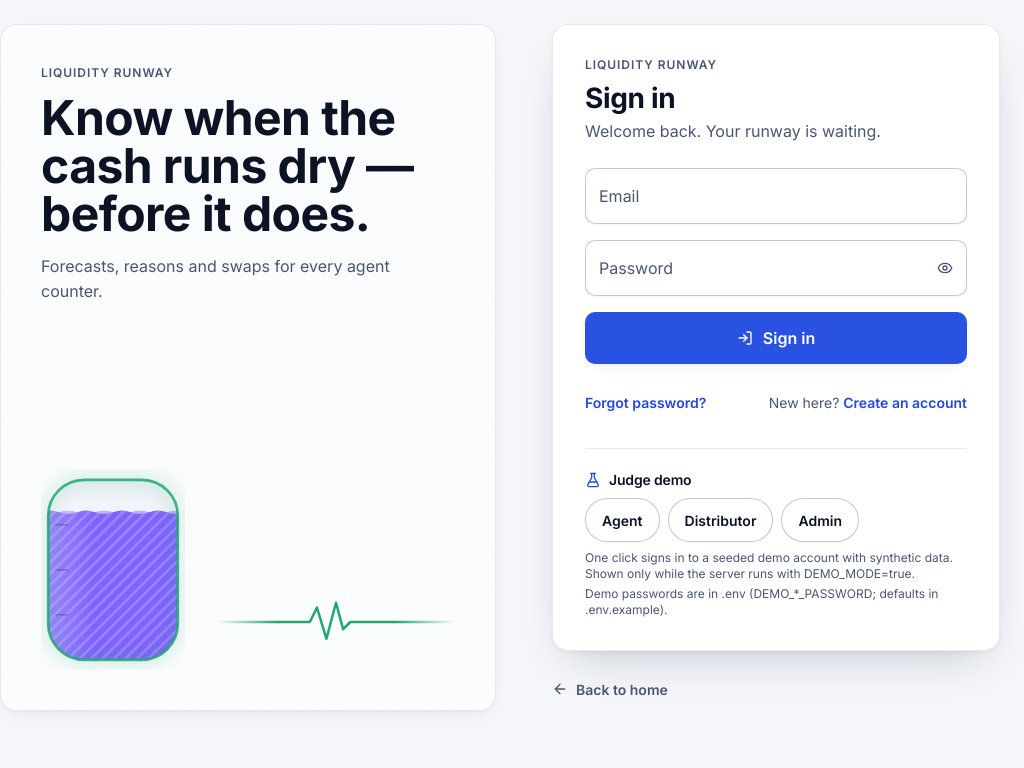
it: LoginPage › shows an error for a wrong password and stays signed out
Type "admin@agentpulse.demo" into the field labelled "Email".
click(776, 196); type("admin@agentpulse.demo")  # box top-left (585, 168), bottom-right (967, 224)
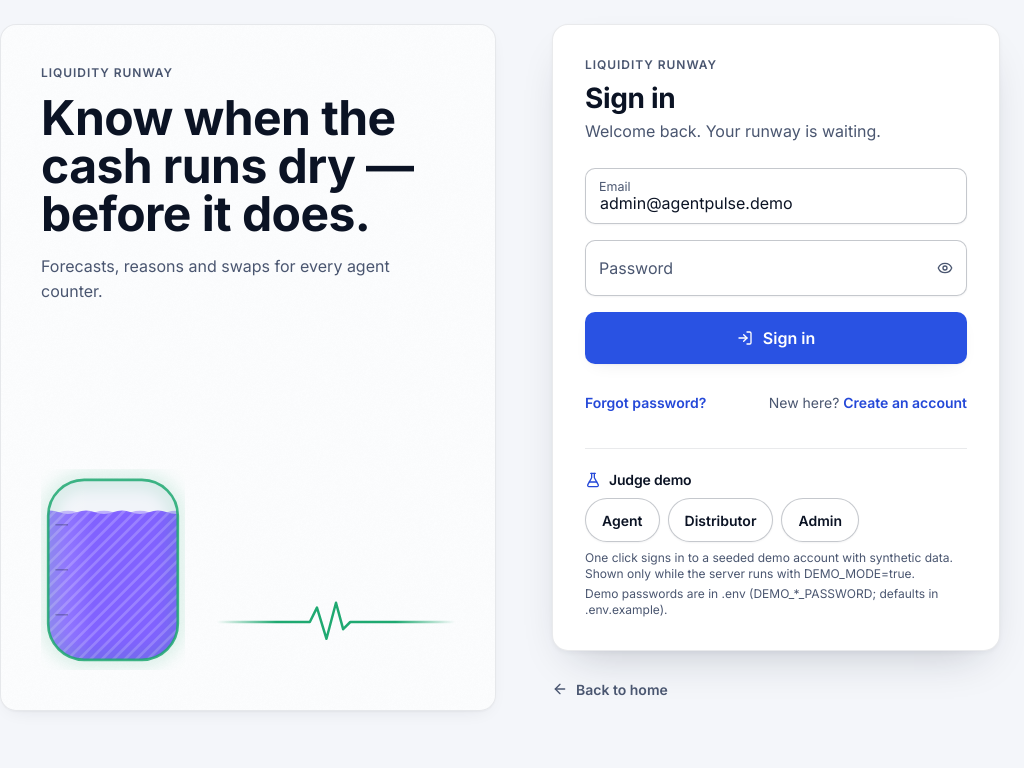
Type "wrong" into the password field labelled "Password".
click(776, 268); type("wrong")  # box top-left (585, 240), bottom-right (967, 296)
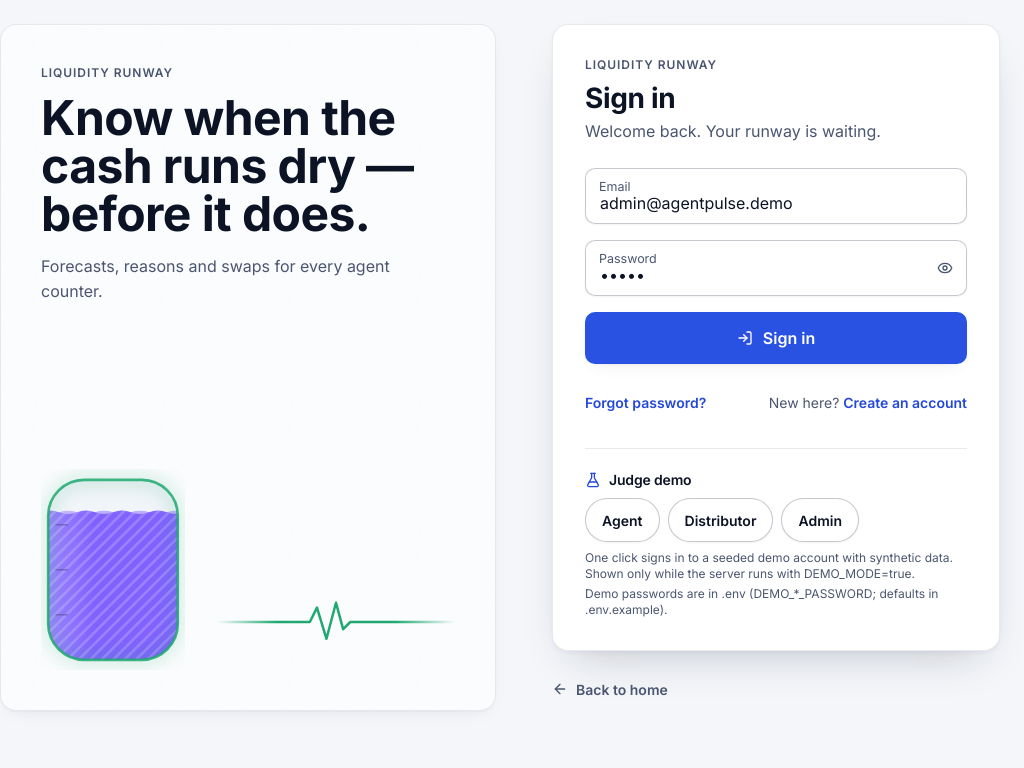
Click the button "Sign in".
click(776, 338)  # box top-left (585, 312), bottom-right (967, 364)
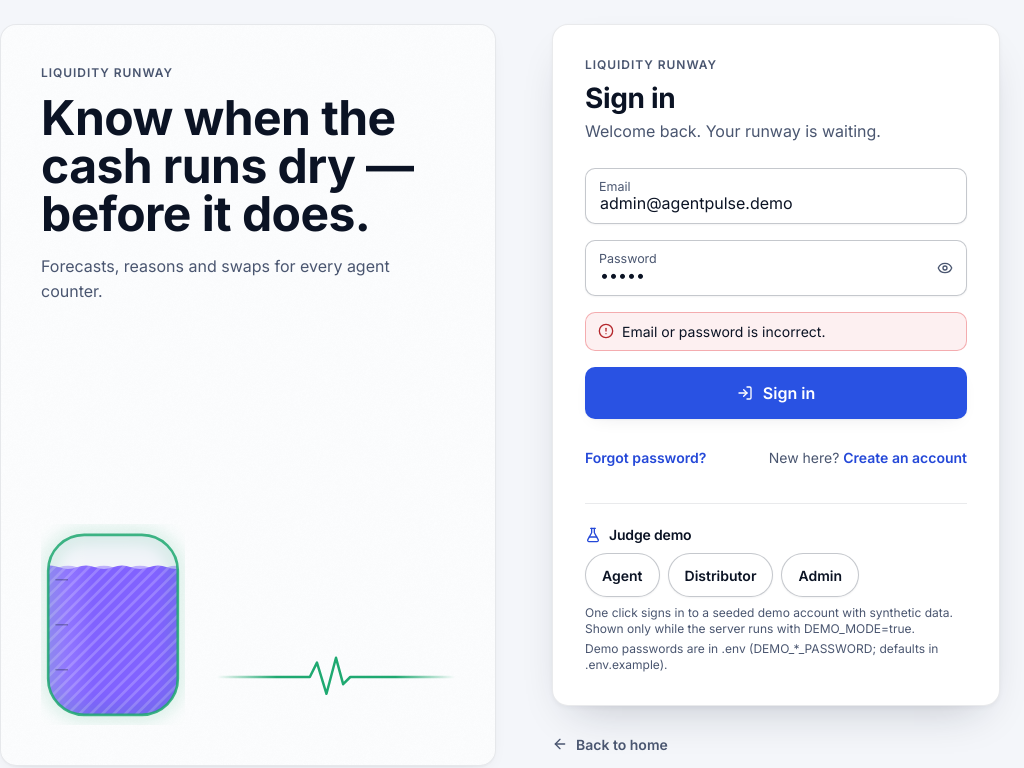
expect the message reads "Email or password is incorrect.": met, box top-left (622, 323), bottom-right (825, 340)
